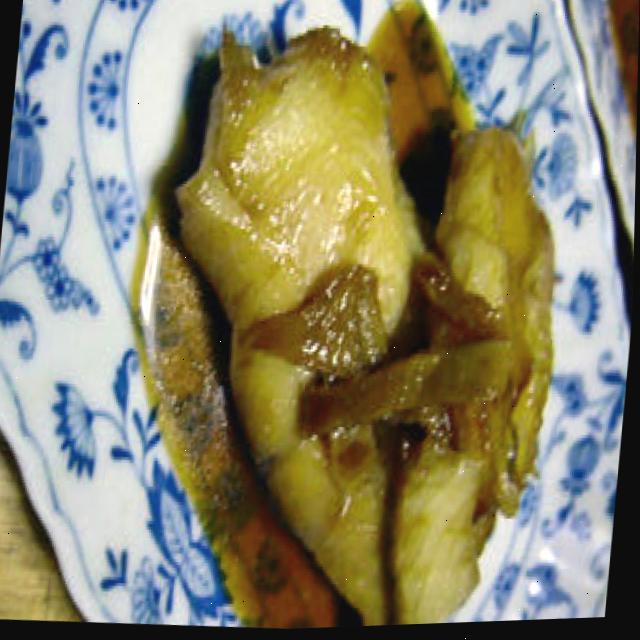熟制海鲜: (74, 0, 632, 638)
